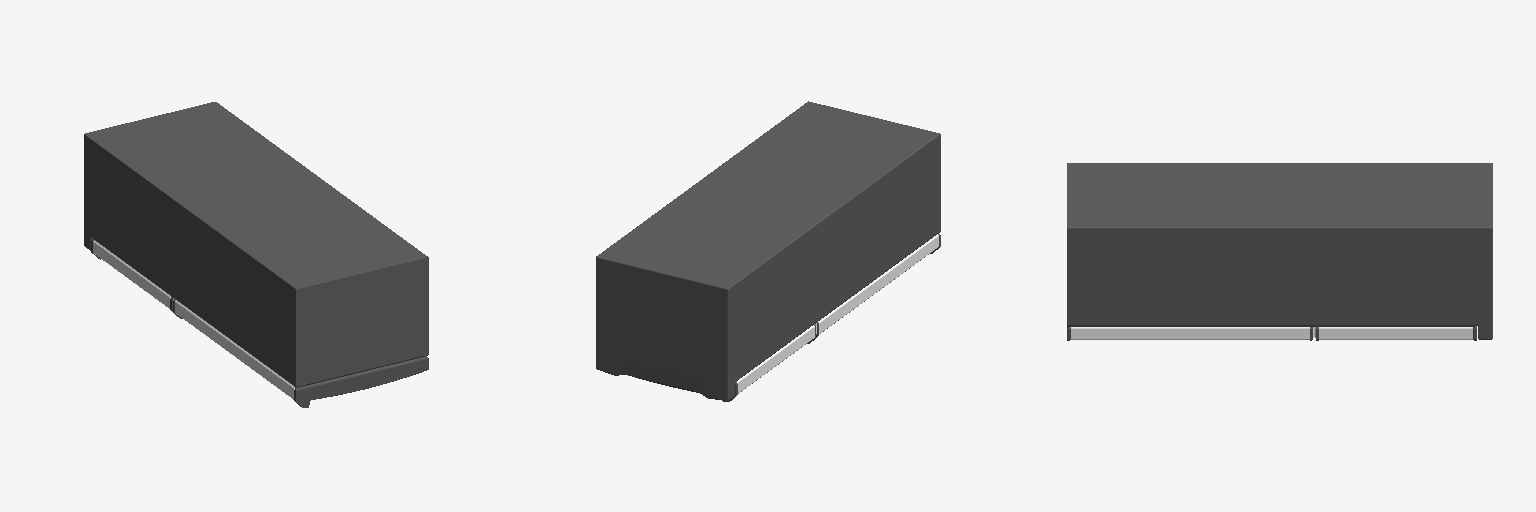
File: 11650_Refrigerator_v1_l3.obj
3 views of the same model, side by side, from view 1: azimuth 30°, elevation 25°; view 2: azimuth 150°, elevation 25°; view 3: azimuth 270°, elevation 25° (orthographic).
Visible parts, largest first — view 1: refrigerator_body, refrigerator_doors, refrigerator_covers; view 2: refrigerator_body, refrigerator_doors; view 3: refrigerator_body, refrigerator_doors.
Part boxes in pixels (left/top/right/bottom): refrigerator_body: left=84, top=102, right=428, bottom=387; refrigerator_doors: left=93, top=240, right=294, bottom=398; refrigerator_covers: left=91, top=239, right=428, bottom=407; refrigerator_body: left=596, top=101, right=940, bottom=400; refrigerator_doors: left=737, top=234, right=938, bottom=393; refrigerator_body: left=1067, top=163, right=1492, bottom=339; refrigerator_doors: left=1071, top=327, right=1472, bottom=339.
Size of the model in its own units: 28.41 by 24.9 by 78.89.